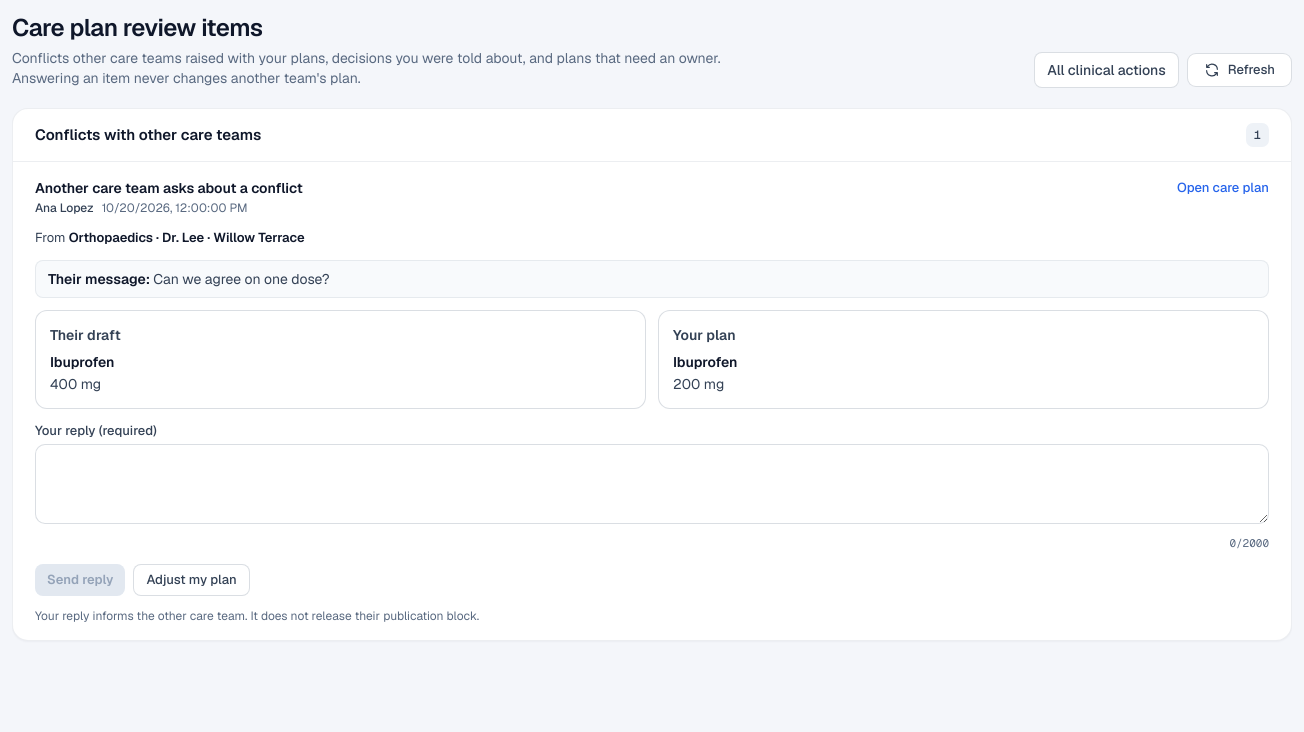
it: care plan review items › shows a cross-plan ask with both instructions and requires a reply; a reply never claims to clear their block
Expected: the list item "Another care team asks about a conflict" shows "Ana Lopez", [35, 200, 94, 216]
Expected: the element "Their draft" shows "400 mg", [50, 374, 101, 392]
Type "200 mg works" into the text box labelled "Your reply (required)" at (652, 484), box [35, 444, 1269, 524]
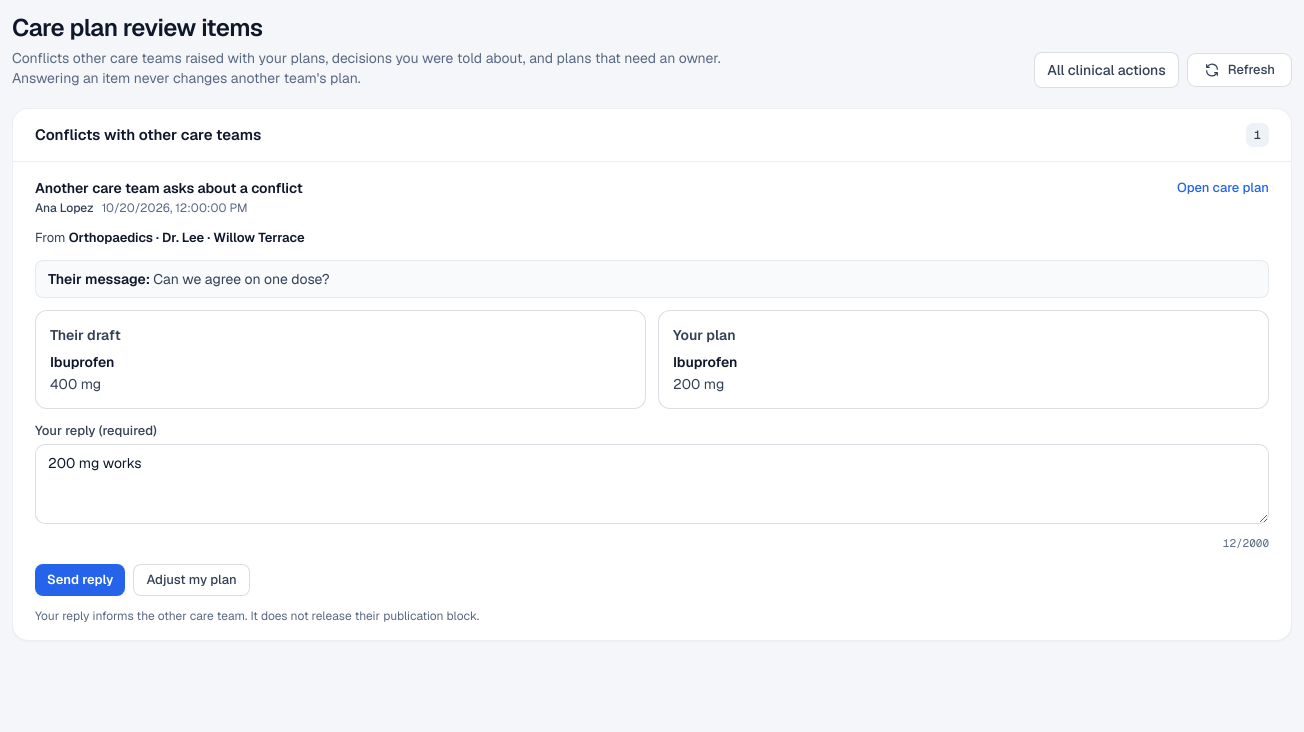
Click the button "Send reply" at (80, 580), box [35, 564, 125, 596]
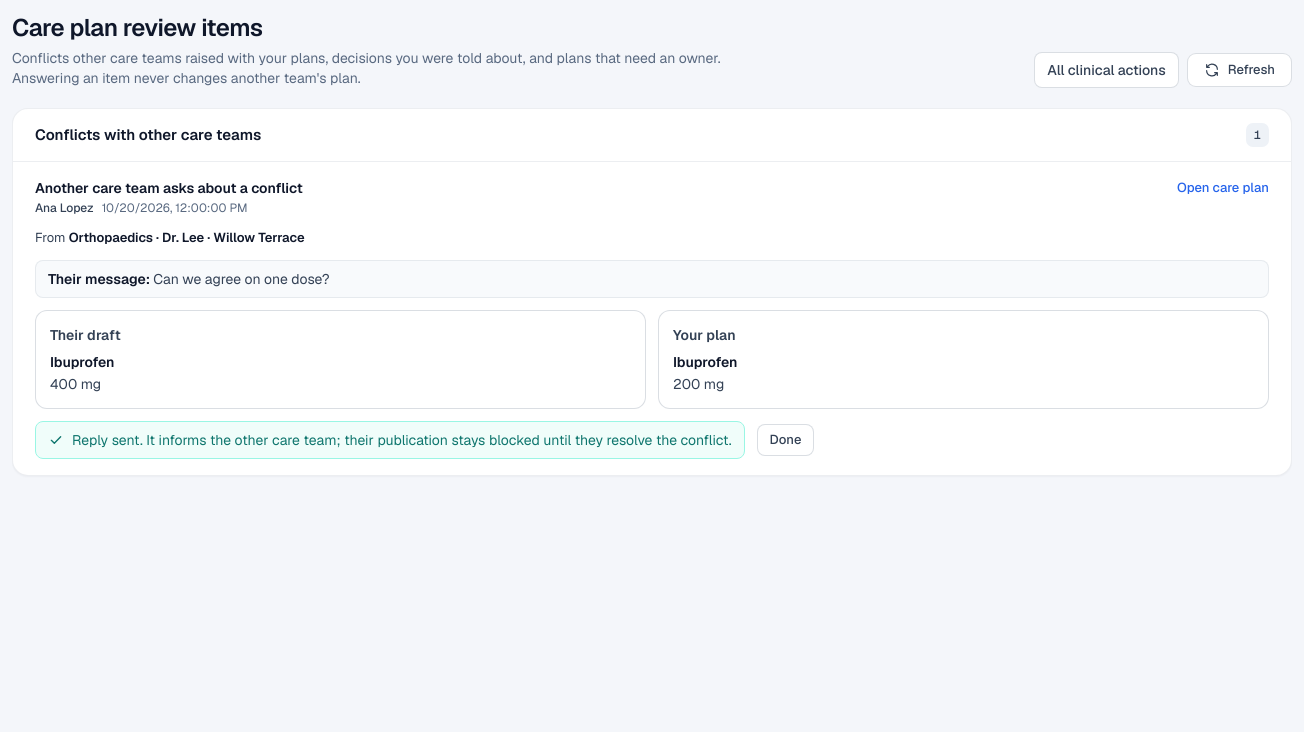
Expected: the text "Reply sent" is shown, [72, 430, 732, 448]
